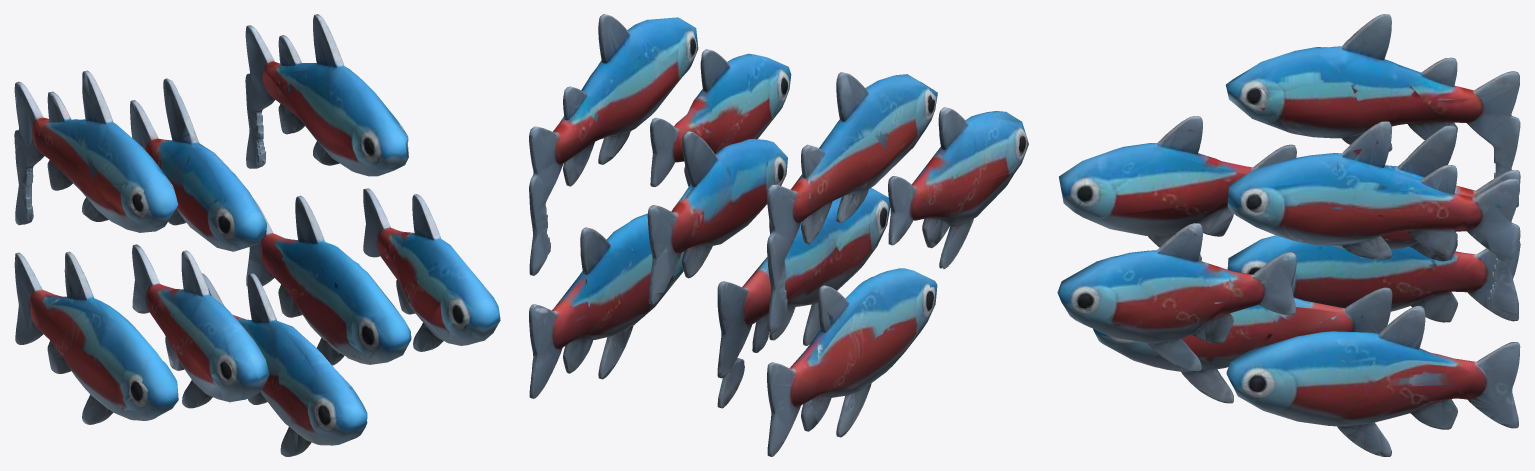
File: tetrafish_pbr.glb
3 views of the same model, side by side, from view 1: azimuth 30°, elevation 25°; view 2: azimuth 150°, elevation 25°; view 3: azimuth 270°, elevation 25° (orthographic). The views are drawn at different scales.
Parts seen in each view (by area): view 1: model; view 2: model; view 3: model.
Part boxes in pixels (x1,y1,x2,y2): model: (14, 14, 500, 456); model: (529, 14, 1028, 456); model: (1057, 14, 1520, 456).
Bounding box in the file's own units: 1.17 × 1.46 × 1.83.
Materials: 1 (1 with a texture image).
